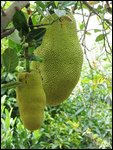jackfruit: (36, 12, 85, 108), (14, 65, 48, 132)
